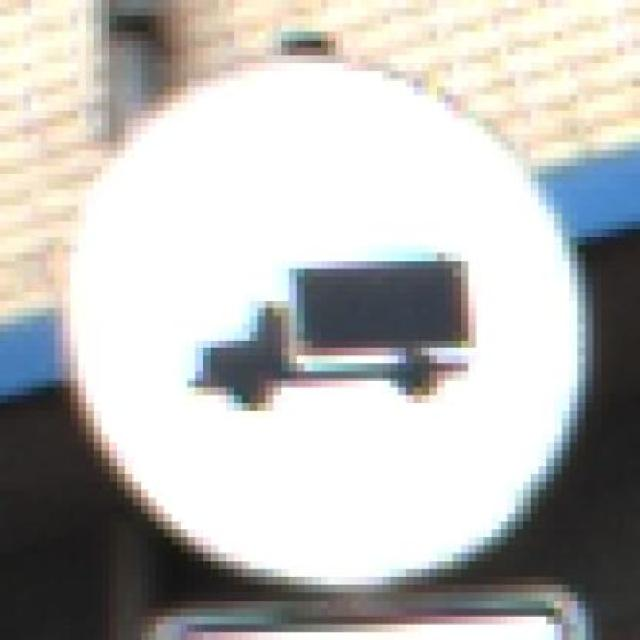Truck traffic is prohibited: (54, 23, 600, 585)
